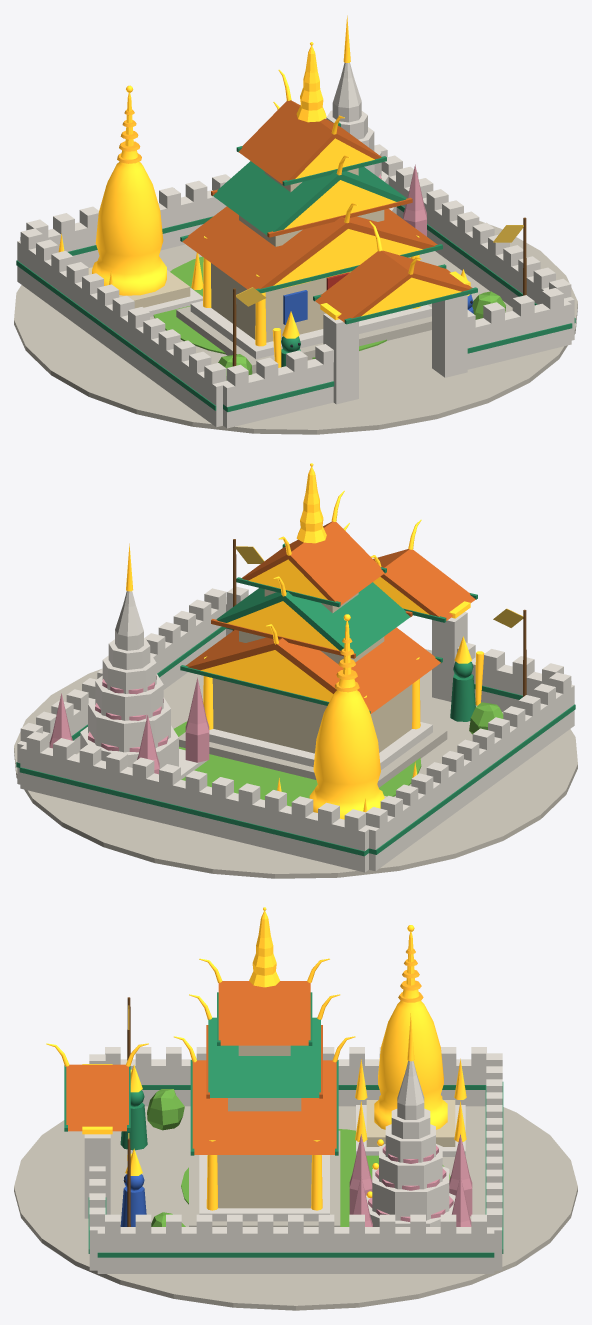
Rendered from loc_palace.glb.
The picture shows the model from 3 angles, top to bottom: view 1: azimuth 30°, elevation 25°; view 2: azimuth 150°, elevation 25°; view 3: azimuth 270°, elevation 25°; orthographic projection.
Parts seen in each view (by area): view 1: Body_White, Body_Stone, Body_Gold, Body_Orange, Body_Green, Body_Cream, Body_Lawn, Body_Pink, Body_Blue, Body_Flag, Body_Wood, Body_GoldDark; view 2: Body_White, Body_Stone, Body_Gold, Body_Orange, Body_Green, Body_Cream, Body_Lawn, Body_Pink, Body_Flag, Body_Wood, Body_GoldDark; view 3: Body_White, Body_Stone, Body_Orange, Body_Gold, Body_Green, Body_Cream, Body_Pink, Body_Lawn, Body_Blue, Body_Wood, Body_GoldDark.
Boxes of the visible parts, left/top/right/bottom form: Body_White: left=17, top=62, right=574, bottom=428; Body_Stone: left=14, top=221, right=577, bottom=434; Body_Gold: left=58, top=15, right=470, bottom=367; Body_Orange: left=182, top=100, right=472, bottom=322; Body_Green: left=16, top=122, right=575, bottom=412; Body_Cream: left=88, top=168, right=410, bottom=342; Body_Lawn: left=153, top=256, right=505, bottom=380; Body_Pink: left=373, top=150, right=426, bottom=236; Body_Blue: left=283, top=290, right=473, bottom=324; Body_Flag: left=236, top=225, right=523, bottom=306; Body_Wood: left=232, top=217, right=526, bottom=366; Body_GoldDark: left=117, top=109, right=141, bottom=163; Body_White: left=17, top=586, right=574, bottom=872; Body_Stone: left=14, top=649, right=577, bottom=878; Body_Gold: left=126, top=463, right=484, bottom=819; Body_Orange: left=186, top=521, right=475, bottom=713; Body_Green: left=16, top=543, right=575, bottom=856; Body_Cream: left=212, top=589, right=412, bottom=797; Body_Lawn: left=173, top=702, right=503, bottom=806; Body_Pink: left=49, top=676, right=209, bottom=774; Body_Flag: left=235, top=546, right=523, bottom=627; Body_Wood: left=232, top=539, right=526, bottom=696; Body_GoldDark: left=335, top=638, right=359, bottom=692; Body_White: left=84, top=1047, right=502, bottom=1273; Body_Stone: left=14, top=1106, right=577, bottom=1310; Body_Orange: left=66, top=981, right=336, bottom=1154; Body_Gold: left=46, top=907, right=466, bottom=1210; Body_Green: left=64, top=992, right=503, bottom=1257; Body_Cream: left=217, top=1045, right=455, bottom=1208; Body_Pink: left=349, top=1134, right=472, bottom=1226; Body_Lawn: left=147, top=1089, right=450, bottom=1226; Body_Blue: left=120, top=1174, right=146, bottom=1226; Body_Wood: left=127, top=997, right=130, bottom=1226; Body_GoldDark: left=398, top=948, right=423, bottom=1002.
Bounding box in the file's own units: 10.8 × 6.02 × 10.8.
